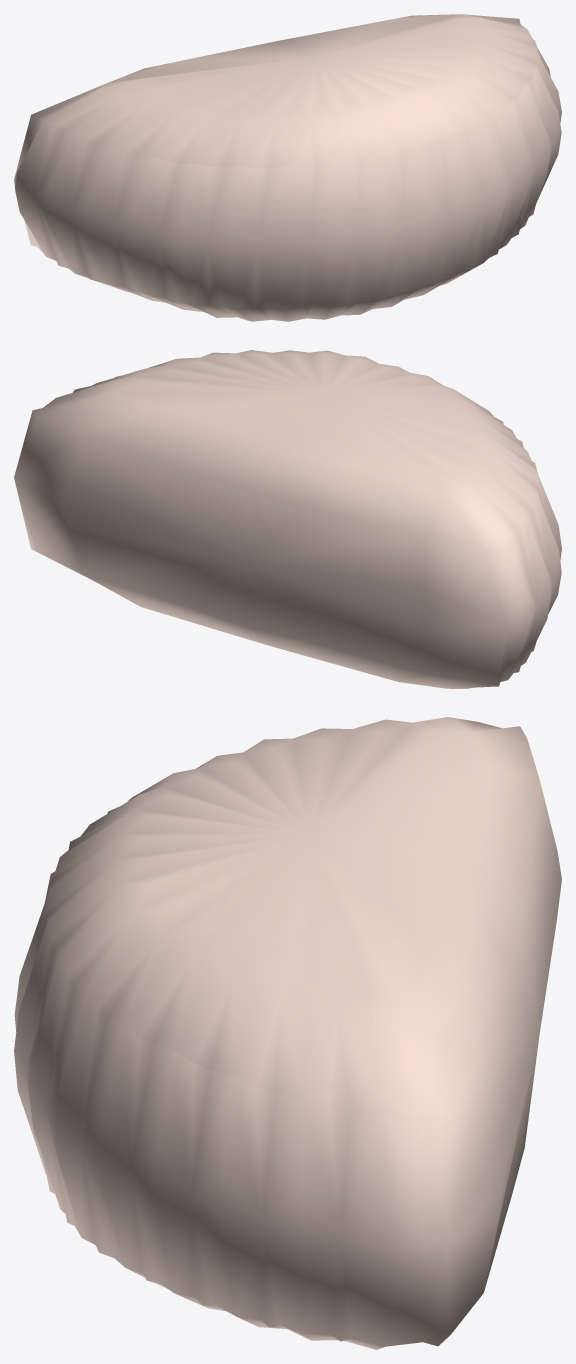
The model's file is Songpyeon.fbx.
3 views of the same model, one above another, from view 1: azimuth 30°, elevation 25°; view 2: azimuth 150°, elevation 25°; view 3: azimuth 270°, elevation 25° (orthographic). The views are drawn at different scales.
Parts seen in each view (by area): view 1: Songpyeon; view 2: Songpyeon; view 3: Songpyeon.
Part boxes in pixels (<box>): Songpyeon: <box>14,14,561,321</box>; Songpyeon: <box>14,350,561,688</box>; Songpyeon: <box>14,717,561,1349</box>.
Size of the model in its own units: 1.48 by 0.6285 by 0.7975.
1 material, 1 textured.
